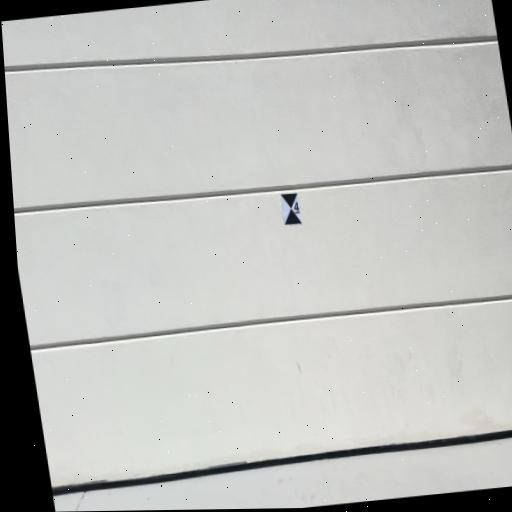target4: (280, 192, 303, 226)
